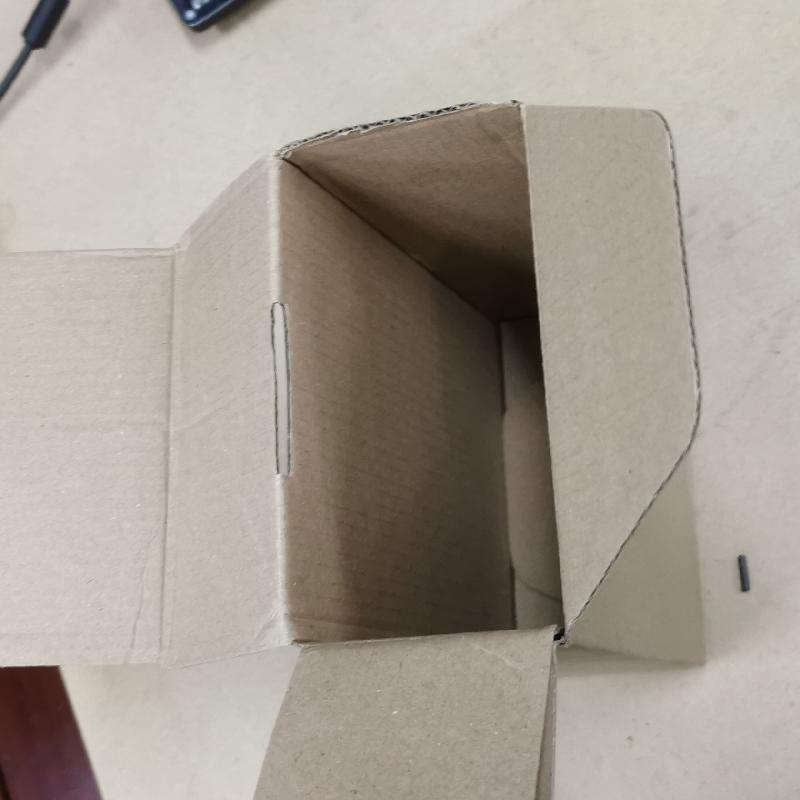boxes: (12, 96, 709, 800)
